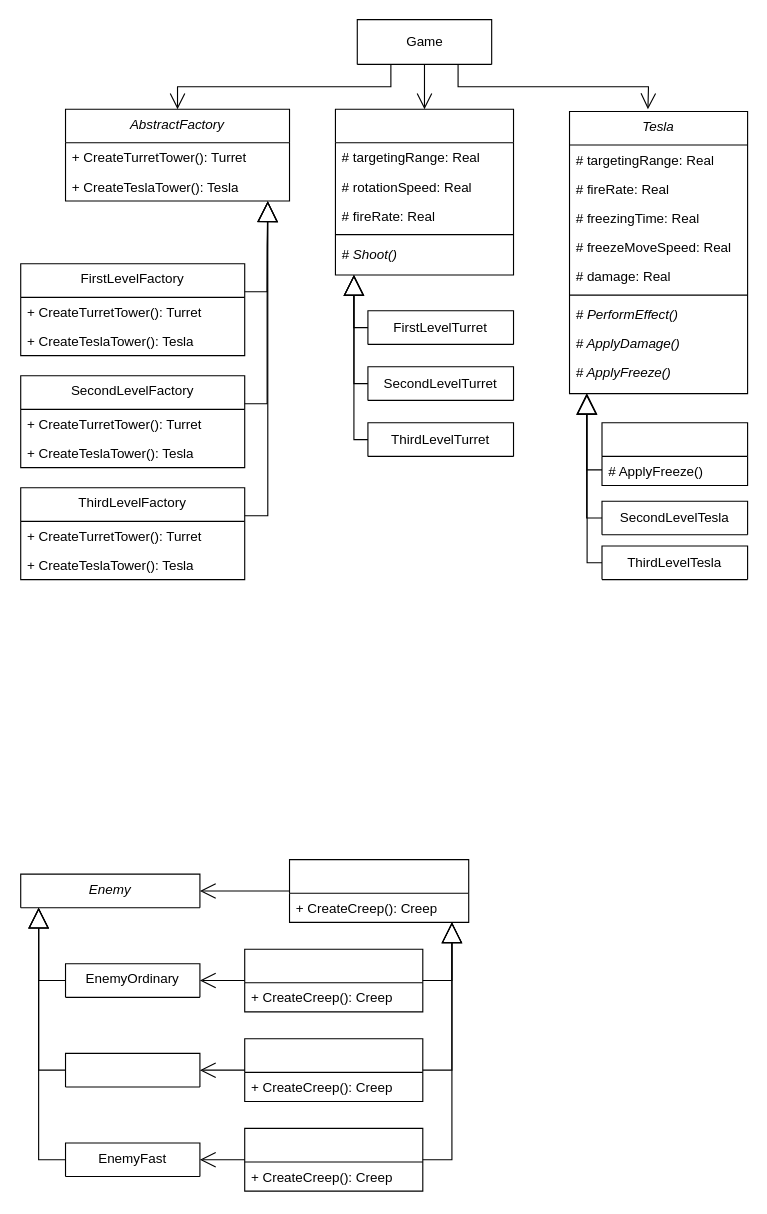
The diagram is 767 pixels wide and 1214 high, and some of its shapes have lost their labels. The shapes that lost their labels are listed below. From the top down, each one's box as (x1, y1, x2, y2) in pixels, then its label:
(334, 108, 514, 275): Turret
(601, 422, 748, 486): FirstLevelTesla
(288, 858, 469, 922): Enemy Factory
(244, 948, 423, 1012): EnemyOrdinary Factory
(64, 1052, 200, 1087): EnemyTank
(244, 1038, 423, 1102): EnemyTank Factory
(244, 1127, 423, 1191): EnemyFast Factory
